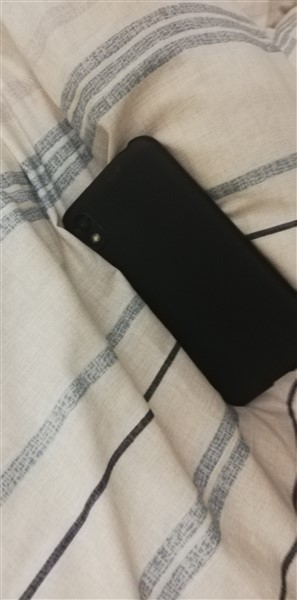telefon: (52, 131, 297, 410)
